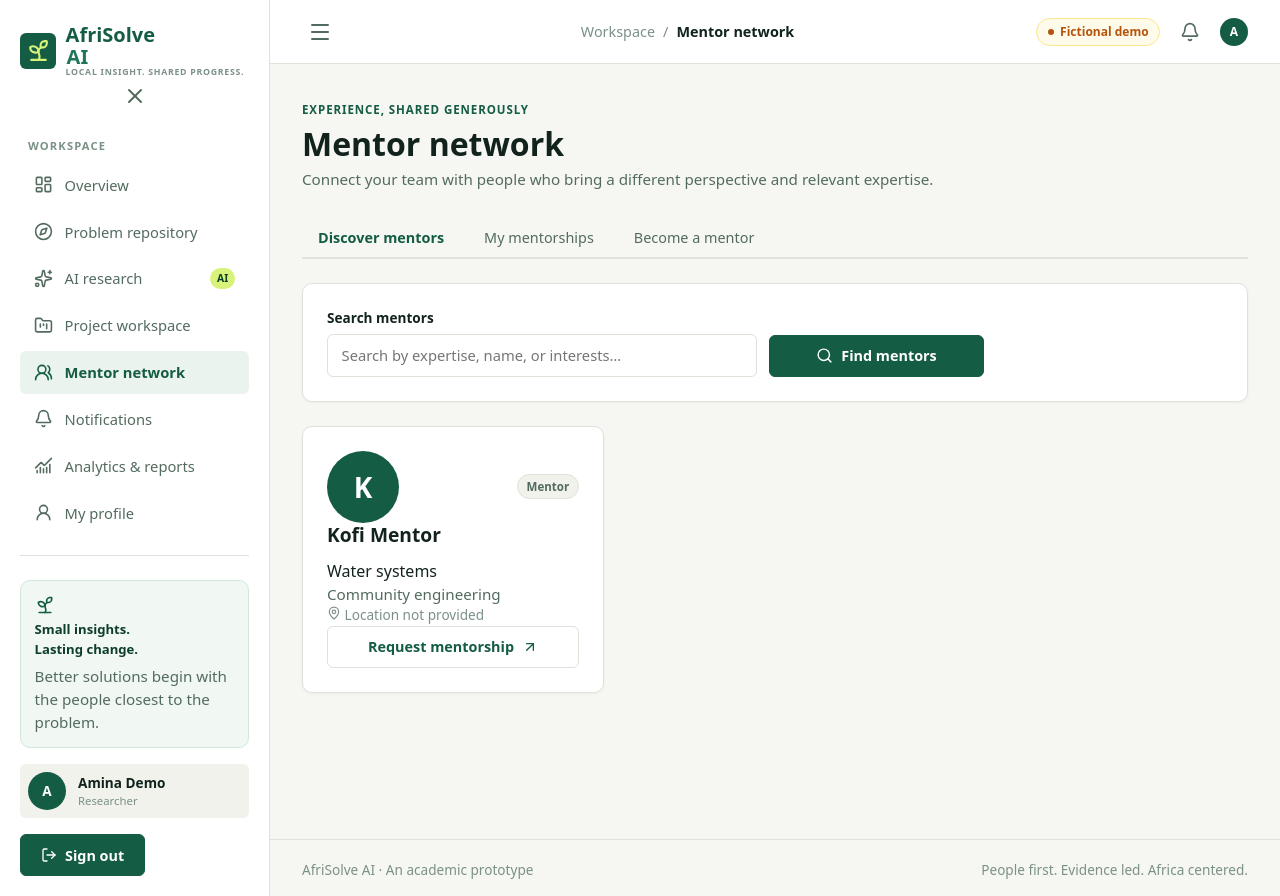
Test: mentor request sends selected mentor and a contextual message
Click the button with aria-label "Request mentorship from Kofi Mentor": click(453, 647) [327,626,579,668]
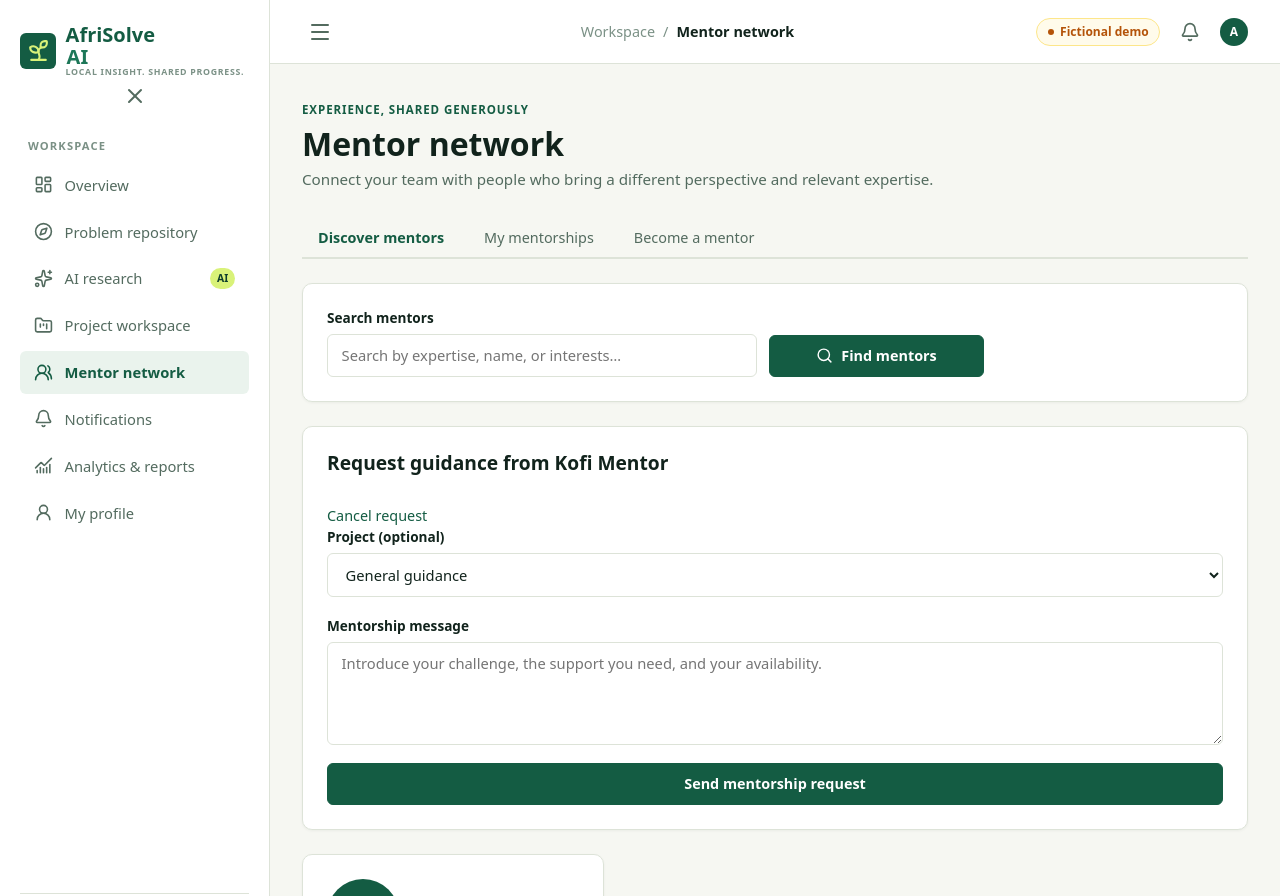
Replace the text in the text box labelled "Mentorship message" with "Please review our community water pilot.": (775, 693) [327,642,1223,745]
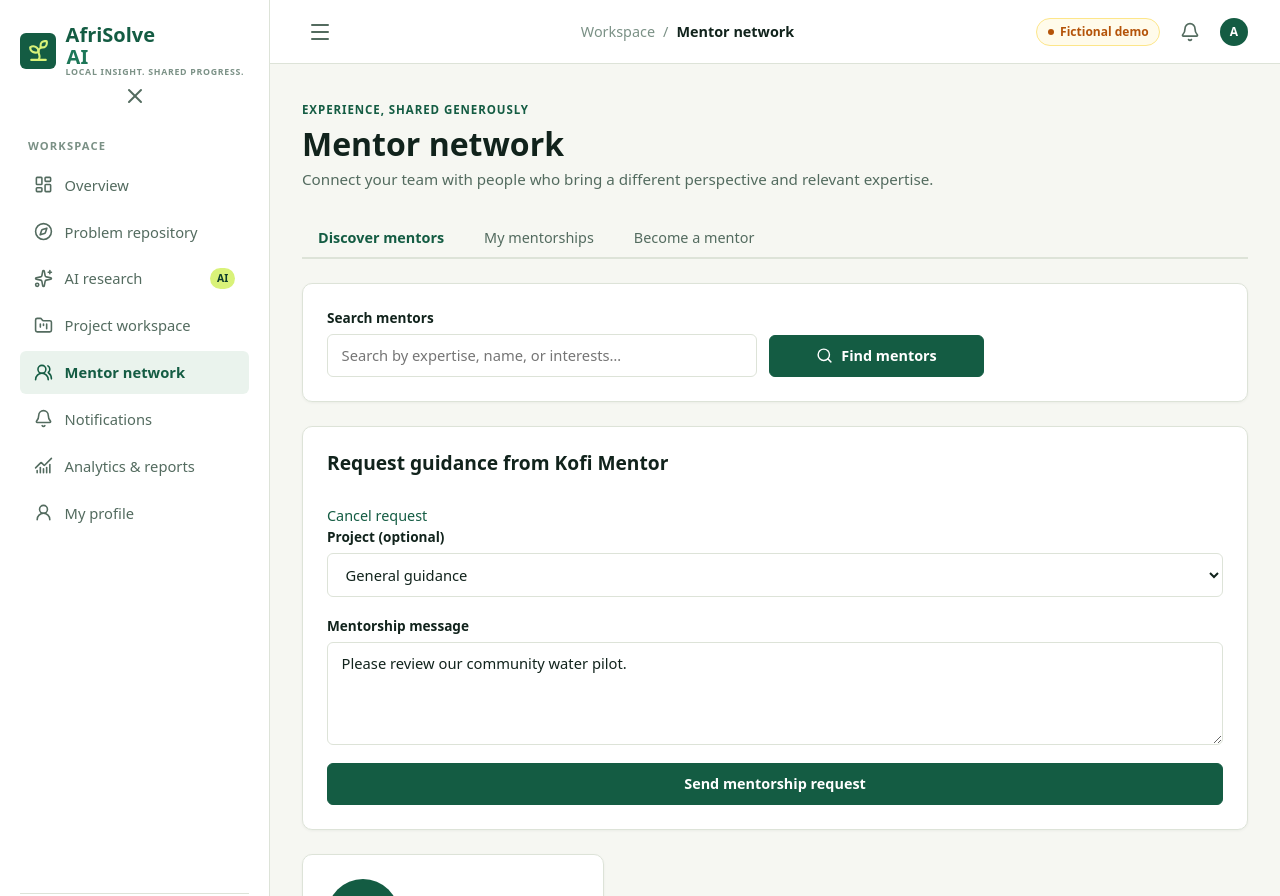
Click the button "Send mentorship request": click(775, 784) [327,763,1223,805]
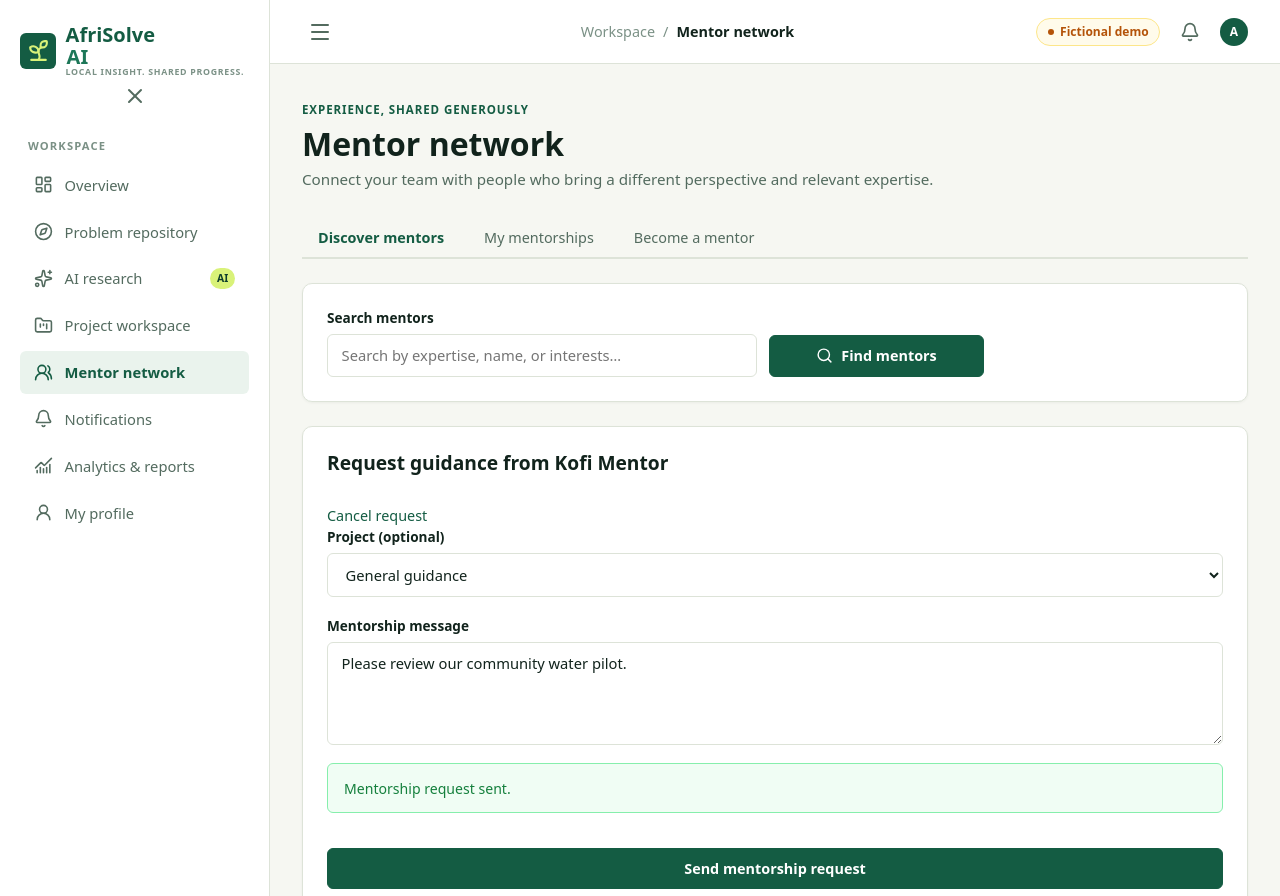
Expected: the text "Mentorship request sent." is shown, [327,763,1223,813]
